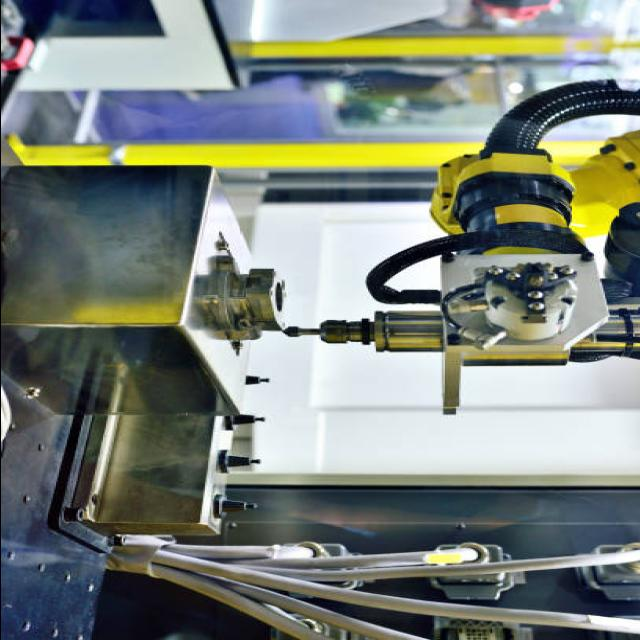Robotic-arm: (342, 72, 640, 422)
